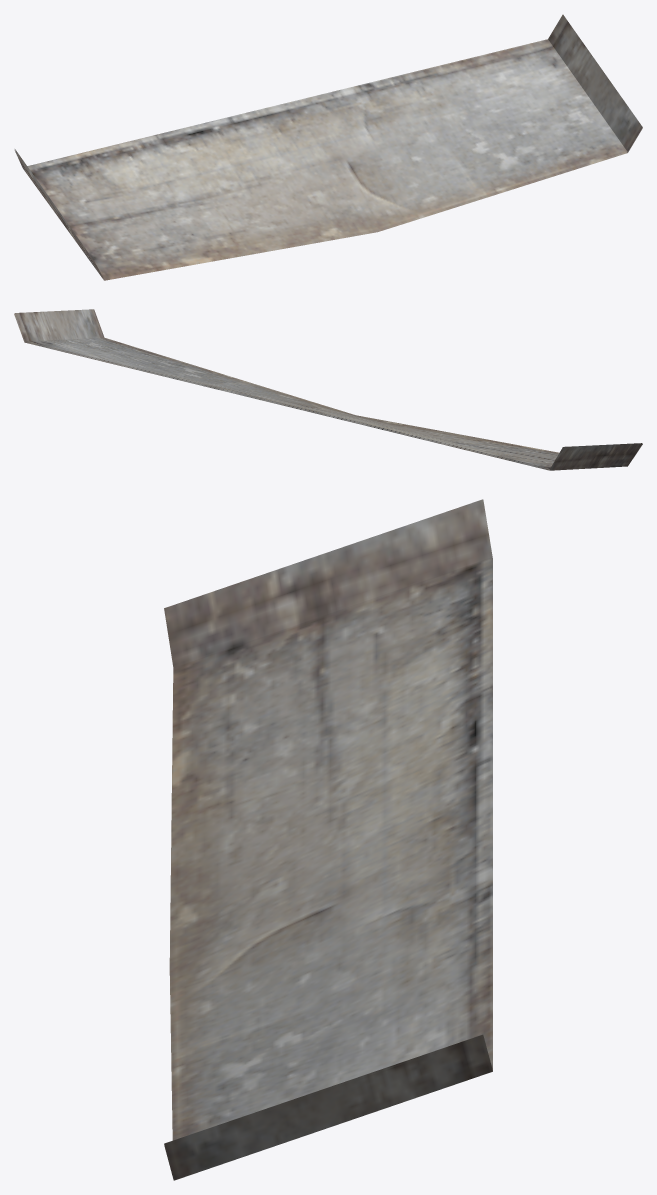
File: Outflow_01.fbx
3 renders of one model, top to bottom at view 1: azimuth 30°, elevation 25°; view 2: azimuth 150°, elevation 25°; view 3: azimuth 270°, elevation 25°, orthographic. The views are drawn at different scales.
Parts seen in each view (by area): view 1: Outflow_01; view 2: Outflow_01; view 3: Outflow_01.
Boxes of the visible parts, box(x1,y1,x2,y2) form: Outflow_01: box(14, 14, 642, 280); Outflow_01: box(14, 309, 642, 470); Outflow_01: box(164, 499, 492, 1180).
Bounding box in the file's own units: 127 × 33 × 21.36.
Materials: 1 (1 with a texture image).
